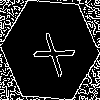X: (25, 25, 76, 78)
